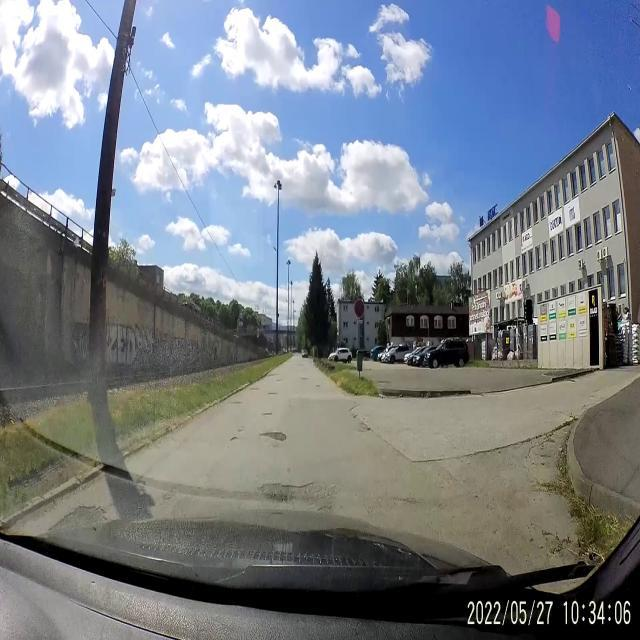Pothole: (54, 492, 108, 534), (258, 476, 320, 506), (260, 426, 288, 446), (227, 428, 242, 448), (260, 409, 274, 422), (230, 398, 244, 410), (266, 388, 280, 399), (246, 384, 261, 393), (300, 375, 308, 382), (276, 378, 282, 383)
